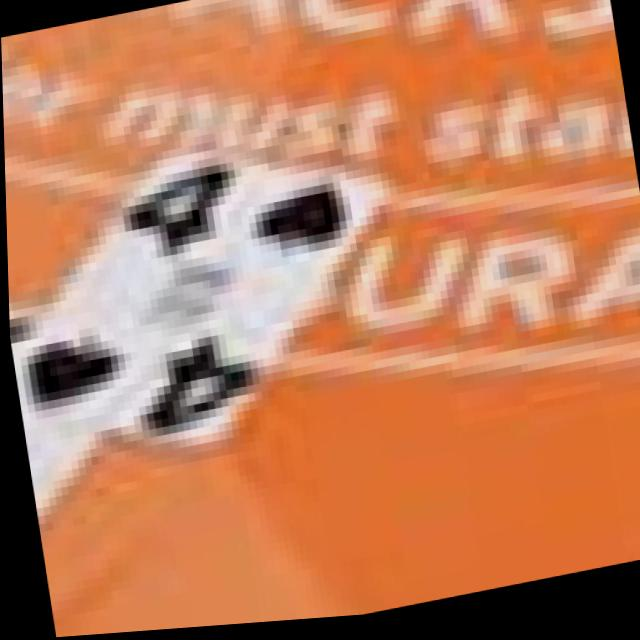Card-4: (10, 142, 387, 453)
